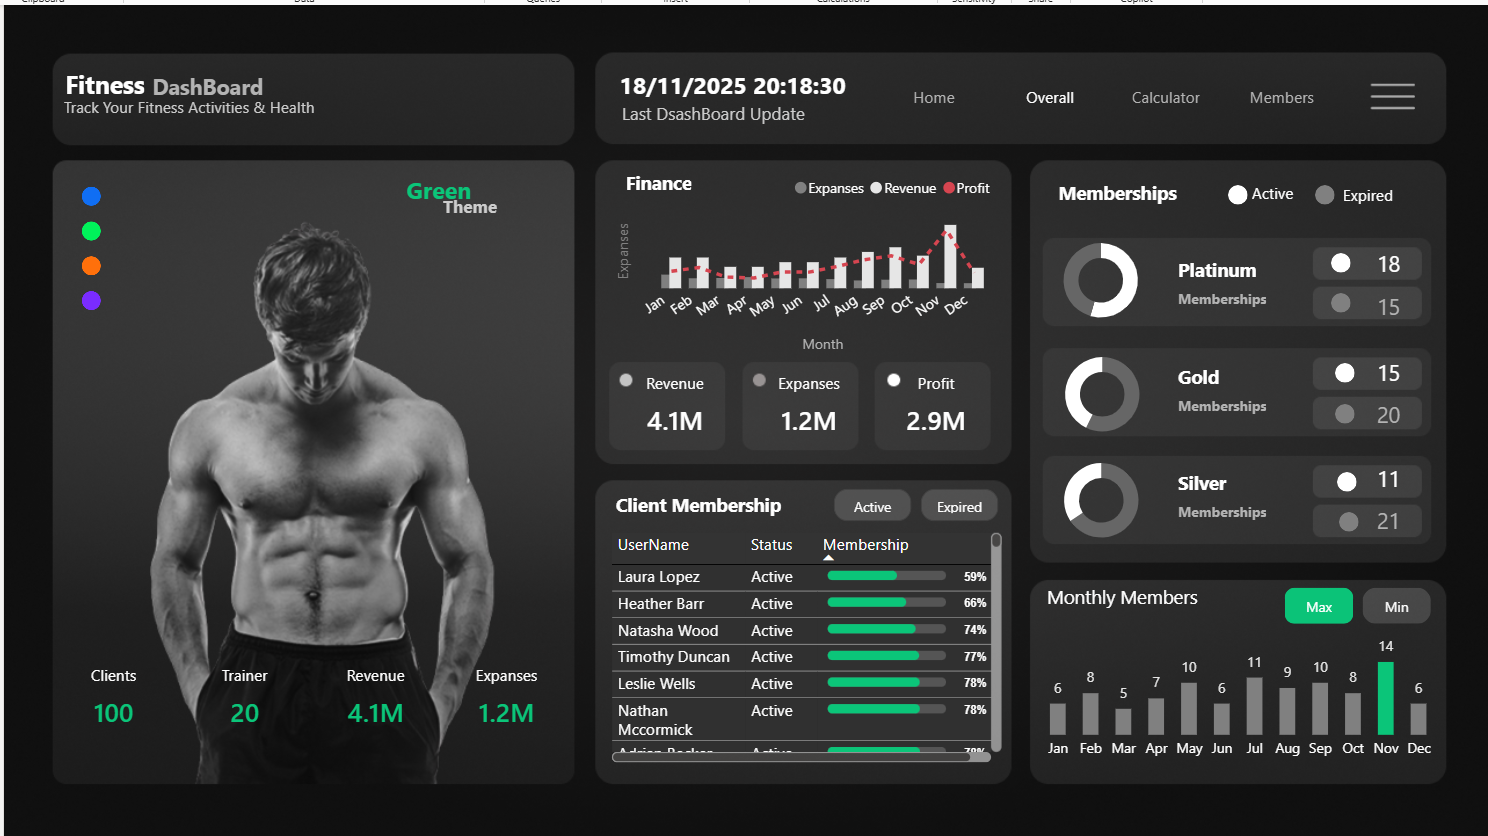

The page's visual inventory and layout, read from the dashboard file:
{"tool":"powerbi","page":{"name":"Overall","canvas":[1280,720],"ordinal":1},"visuals":[{"type":"cardVisual","fields":{"Data":["_Measures.Users_Count"]},"box":[39.9,556.4,110,80],"z":0},{"type":"cardVisual","fields":{"Data":["Count(Users.Trainer Name)"]},"box":[152.7,556.4,110,80],"z":1000},{"type":"cardVisual","fields":{"Data":["_Measures.Revenue"]},"box":[265.5,556.4,110,80],"z":2000},{"type":"cardVisual","fields":{"Data":["_Measures.Expanses"]},"box":[378.4,556.4,110,80],"z":3000},{"type":"cardVisual","fields":{"Data":["_Measures.Revenue"]},"box":[524.3,304.4,109.9,80.7],"z":4000},{"type":"cardVisual","fields":{"Data":["_Measures.Expanses"]},"box":[640,304.4,109.9,80.7],"z":5000},{"type":"cardVisual","fields":{"Data":["_Measures.Profit"]},"box":[749.9,304.4,109.9,80.7],"z":6000},{"type":"lineClusteredColumnComboChart","fields":{"Y":["_Measures.Expanses","_Measures.Revenue"],"Y2":["_Measures.Profit"],"Category":["Calender.Month"]},"box":[524.3,138.1,335.6,166.3],"z":7000},{"type":"shape","box":[490.2,129.4,149.8,46.7],"z":8000},{"type":"clusteredColumnChart","fields":{"Y":["Max_users.Users_Count"],"Category":["Calender.Month"]},"box":[886.1,533,357.9,126.4],"z":9000},{"type":"shape","box":[899.7,486.3,149.8,46.7],"z":10000},{"type":"advancedSlicerVisual","fields":{"Values":["Min_Max_Switch.Type"]},"box":[1100.1,498,137.1,41.8],"z":11000},{"type":"tableEx","fields":{"Values":["Users.UserName","Users.Status","_Measures.SVG_BarChart1"]},"box":[518.2,450.1,346.8,208.5],"z":12000},{"type":"advancedSlicerVisual","fields":{"Values":["Users.Status"]},"box":[710.7,412,152.4,38.1],"z":13000},{"type":"shape","box":[524.2,407,149.4,47.1],"z":14000},{"type":"shape","box":[1012.4,204.5,149.4,47.1],"z":15000},{"type":"shape","box":[1012.4,296.7,149.4,47.1],"z":16000},{"type":"shape","box":[1012.4,387.9,149.4,47.1],"z":17000},{"type":"shape","box":[1012.4,228.5,149.4,47.1],"z":18000},{"type":"shape","box":[1012.4,320.8,149.4,47.1],"z":19000},{"type":"shape","box":[1012.4,412,149.4,47.1],"z":20000},{"type":"donutChart","fields":{"Y":["_Measures.User_Gold"],"Category":["Users.Status"]},"box":[902.1,290.7,90.2,90.2],"z":21000},{"type":"donutChart","fields":{"Y":["_Measures.User_Silver"],"Category":["Users.Status"]},"box":[901.1,381.9,90.2,90.2],"z":22000},{"type":"donutChart","fields":{"Y":["_Measures.User_Platinum"],"Category":["Users.Status"]},"box":[900.1,192.5,91,90.2],"z":23000},{"type":"cardVisual","fields":{"Data":["_Measures.Platinum_Active"]},"box":[1168.7,191.4,51.1,59.1],"z":24000},{"type":"cardVisual","fields":{"Data":["_Measures.Platinum_Expired"]},"box":[1168.7,228.5,51.1,59.1],"z":25000},{"type":"cardVisual","fields":{"Data":["_Measures.Gold_Active"]},"box":[1168.7,285.7,51.1,59.1],"z":26000},{"type":"cardVisual","fields":{"Data":["_Measures.Gold_Expired"]},"box":[1168.7,321.8,51.1,59.1],"z":27000},{"type":"cardVisual","fields":{"Data":["_Measures.Silver_Active"]},"box":[1168.7,376.9,51.1,59.1],"z":28000},{"type":"cardVisual","fields":{"Data":["_Measures.Silver_Expired"]},"box":[1168.7,413,51.1,59.1],"z":29000},{"type":"shape","box":[1144.7,213.5,17,17],"z":30000},{"type":"shape","box":[1147.7,308.7,17,17],"z":31000},{"type":"shape","box":[1149.7,402.9,17,17],"z":32000},{"type":"shape","box":[1144.7,248.6,17,17],"z":33000},{"type":"shape","box":[1147.7,343.8,17,17],"z":34000},{"type":"shape","box":[1151.7,437,17,17],"z":35000},{"type":"shape","box":[886.1,138.3,149.4,47.1],"z":36000},{"type":"shape","box":[1055.5,155.3,17,17],"z":37000},{"type":"shape","box":[1130.6,155.4,17,17],"z":38000},{"type":"shape","box":[1154.7,139.3,82.2,47.1],"z":39000},{"type":"shape","box":[1076.5,138.3,82.2,47.1],"z":40000},{"type":"shape","box":[50.1,51.1,74.2,33.1],"z":41000},{"type":"shape","box":[127.3,53.1,96.2,33.1],"z":42000},{"type":"shape","box":[52.1,64.2,245.6,47.1],"z":43000},{"type":"image","box":[1154.7,51.1,87.2,58.1],"z":44000},{"type":"shape","box":[488,52,280.7,33.1],"z":45000},{"type":"shape","box":[533.1,69,245.6,47.1],"z":46000},{"type":"pageNavigator","box":[756.9,60,393,36.4],"z":47000},{"type":"advancedSlicerVisual","fields":{"Values":["ColorCodes.Color"],"Label":["Min(ColorCodes.Icon)"]},"box":[57.3,149.2,37.3,125.5],"z":48000},{"type":"shape","box":[234.7,141.9,281.1,33.7],"z":49000},{"type":"shape","box":[378.5,149.2,54.6,47.3],"z":50000}]}

Visuals, with their boxes on the page's 1280x720 design canvas (x1, y1, x2, y2). These are canvas units, not pixel positions in the 1488x836 screenshot, which may show the page scaled, cropped or inside an application window:
cardVisual - _Measures.Users_Count: Rect(40, 556, 150, 636)
cardVisual - Count(Users.Trainer Name): Rect(153, 556, 263, 636)
cardVisual - _Measures.Revenue: Rect(266, 556, 376, 636)
cardVisual - _Measures.Expanses: Rect(378, 556, 488, 636)
cardVisual - _Measures.Revenue: Rect(524, 304, 634, 385)
cardVisual - _Measures.Expanses: Rect(640, 304, 750, 385)
cardVisual - _Measures.Profit: Rect(750, 304, 860, 385)
lineClusteredColumnComboChart - _Measures.Expanses x _Measures.Revenue: Rect(524, 138, 860, 304)
shape: Rect(490, 129, 640, 176)
clusteredColumnChart - Max_users.Users_Count x Calender.Month: Rect(886, 533, 1244, 659)
shape: Rect(900, 486, 1050, 533)
advancedSlicerVisual - Min_Max_Switch.Type: Rect(1100, 498, 1237, 540)
tableEx - Users.UserName x Users.Status: Rect(518, 450, 865, 659)
advancedSlicerVisual - Users.Status: Rect(711, 412, 863, 450)
shape: Rect(524, 407, 674, 454)
shape: Rect(1012, 204, 1162, 252)
shape: Rect(1012, 297, 1162, 344)
shape: Rect(1012, 388, 1162, 435)
shape: Rect(1012, 228, 1162, 276)
shape: Rect(1012, 321, 1162, 368)
shape: Rect(1012, 412, 1162, 459)
donutChart - _Measures.User_Gold x Users.Status: Rect(902, 291, 992, 381)
donutChart - _Measures.User_Silver x Users.Status: Rect(901, 382, 991, 472)
donutChart - _Measures.User_Platinum x Users.Status: Rect(900, 192, 991, 283)
cardVisual - _Measures.Platinum_Active: Rect(1169, 191, 1220, 250)
cardVisual - _Measures.Platinum_Expired: Rect(1169, 228, 1220, 288)
cardVisual - _Measures.Gold_Active: Rect(1169, 286, 1220, 345)
cardVisual - _Measures.Gold_Expired: Rect(1169, 322, 1220, 381)
cardVisual - _Measures.Silver_Active: Rect(1169, 377, 1220, 436)
cardVisual - _Measures.Silver_Expired: Rect(1169, 413, 1220, 472)
shape: Rect(1145, 214, 1162, 230)
shape: Rect(1148, 309, 1165, 326)
shape: Rect(1150, 403, 1167, 420)
shape: Rect(1145, 249, 1162, 266)
shape: Rect(1148, 344, 1165, 361)
shape: Rect(1152, 437, 1169, 454)
shape: Rect(886, 138, 1036, 185)
shape: Rect(1056, 155, 1072, 172)
shape: Rect(1131, 155, 1148, 172)
shape: Rect(1155, 139, 1237, 186)
shape: Rect(1076, 138, 1159, 185)
shape: Rect(50, 51, 124, 84)
shape: Rect(127, 53, 224, 86)
shape: Rect(52, 64, 298, 111)
image: Rect(1155, 51, 1242, 109)
shape: Rect(488, 52, 769, 85)
shape: Rect(533, 69, 779, 116)
pageNavigator: Rect(757, 60, 1150, 96)
advancedSlicerVisual - ColorCodes.Color x Min(ColorCodes.Icon): Rect(57, 149, 95, 275)
shape: Rect(235, 142, 516, 176)
shape: Rect(378, 149, 433, 196)
